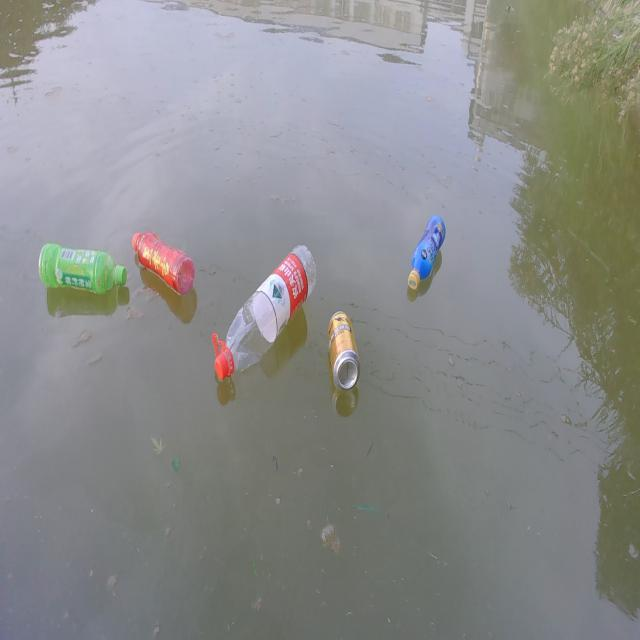garbage: (212, 242, 318, 380), (38, 241, 127, 295), (132, 229, 196, 295), (408, 213, 446, 291), (327, 309, 361, 389)
